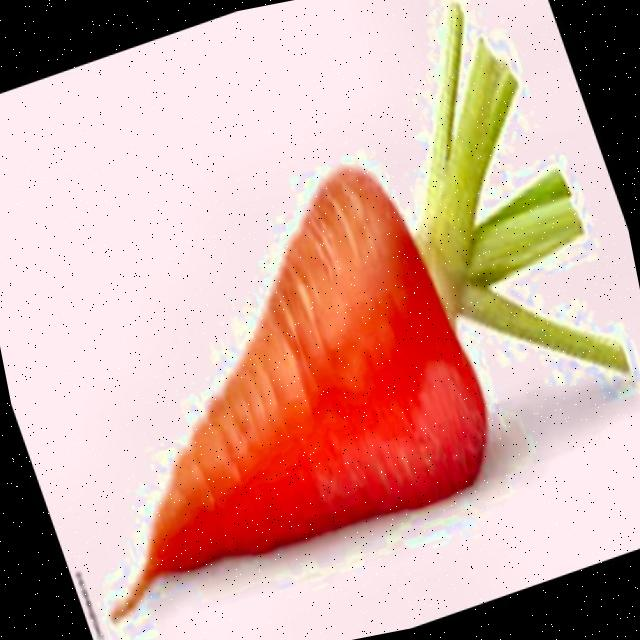carrot: (110, 5, 628, 621)
